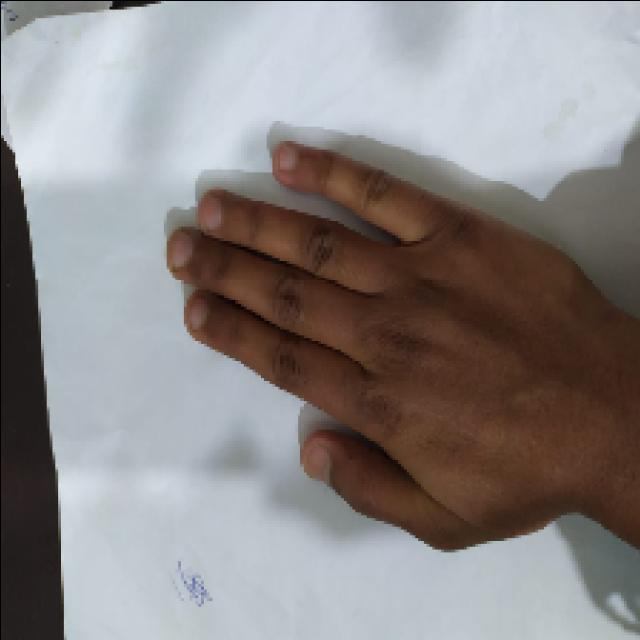Nail: (302, 446, 329, 480), (170, 231, 192, 267), (189, 298, 208, 329), (204, 199, 221, 229), (279, 144, 296, 169)
